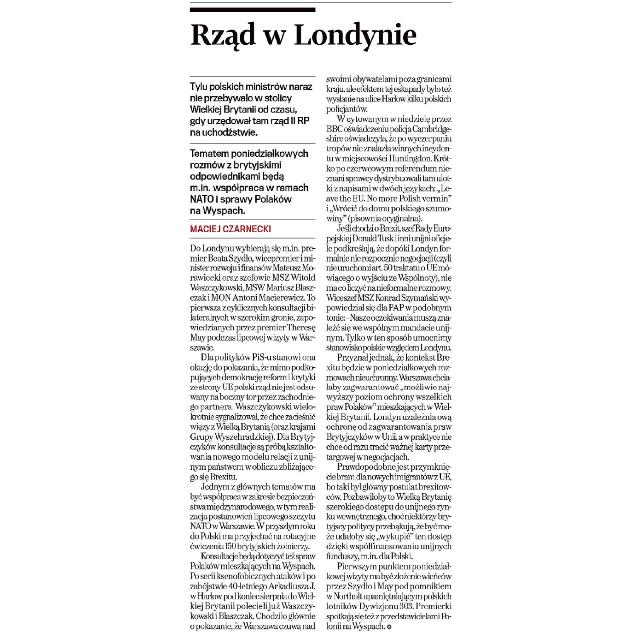author: (185, 220, 277, 236)
body: (324, 72, 454, 634), (186, 242, 320, 634)
lead: (185, 146, 312, 216), (186, 78, 314, 140)
title: (186, 15, 422, 55)
